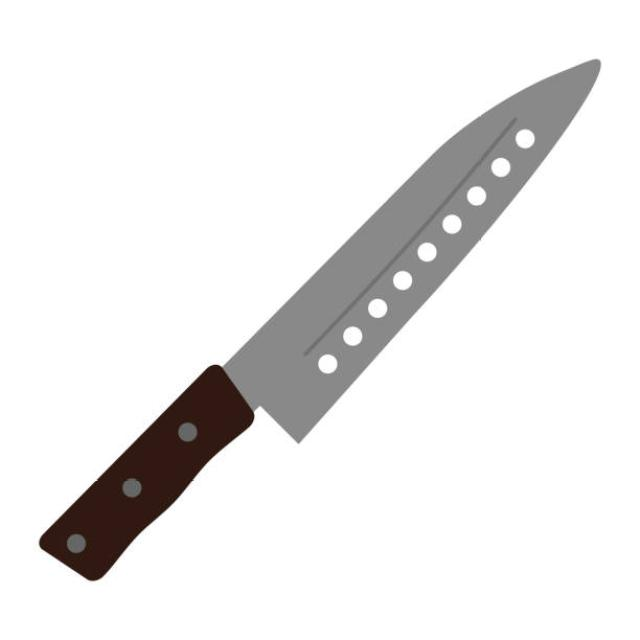knife: (36, 54, 609, 590)
